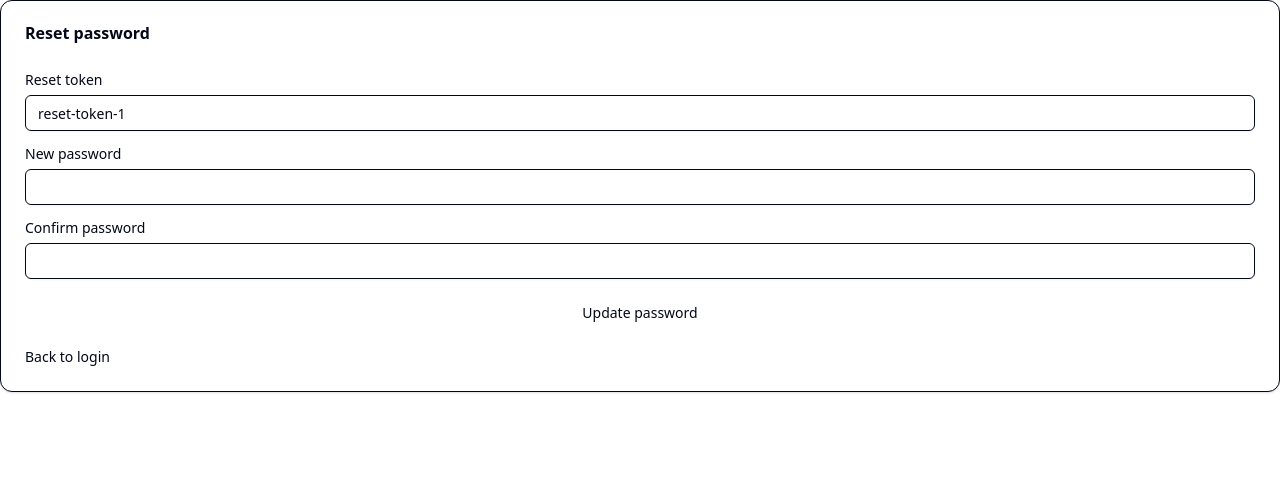
Reset flow forms › submits reset-password with token and shows success
Type "newpassword1" into the password field labelled "New password" at (640, 187), box [25,169,1255,205]
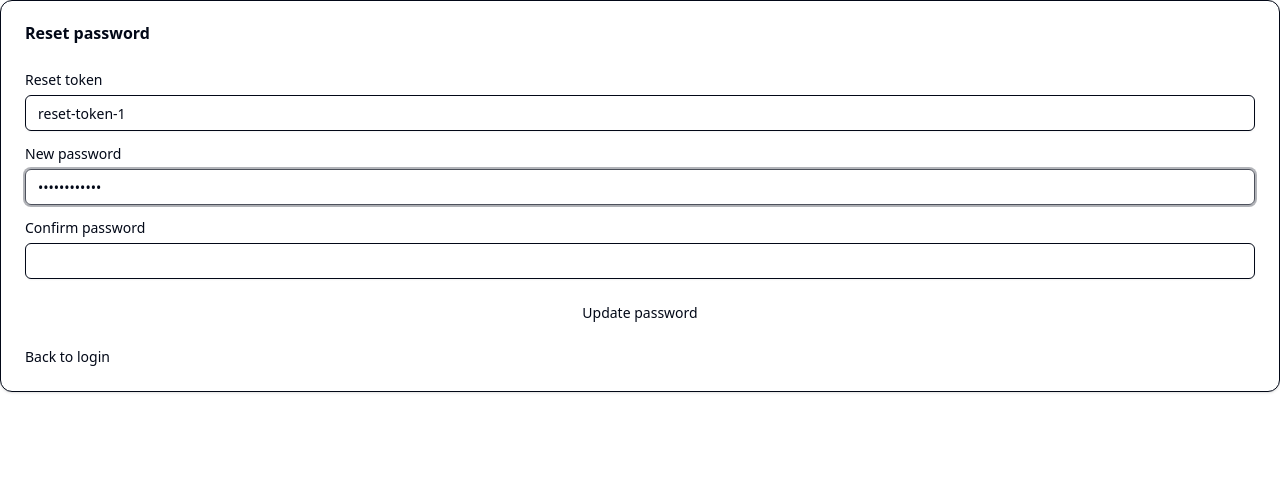
Type "newpassword1" into the password field labelled "Confirm password" at (640, 261), box [25,243,1255,279]
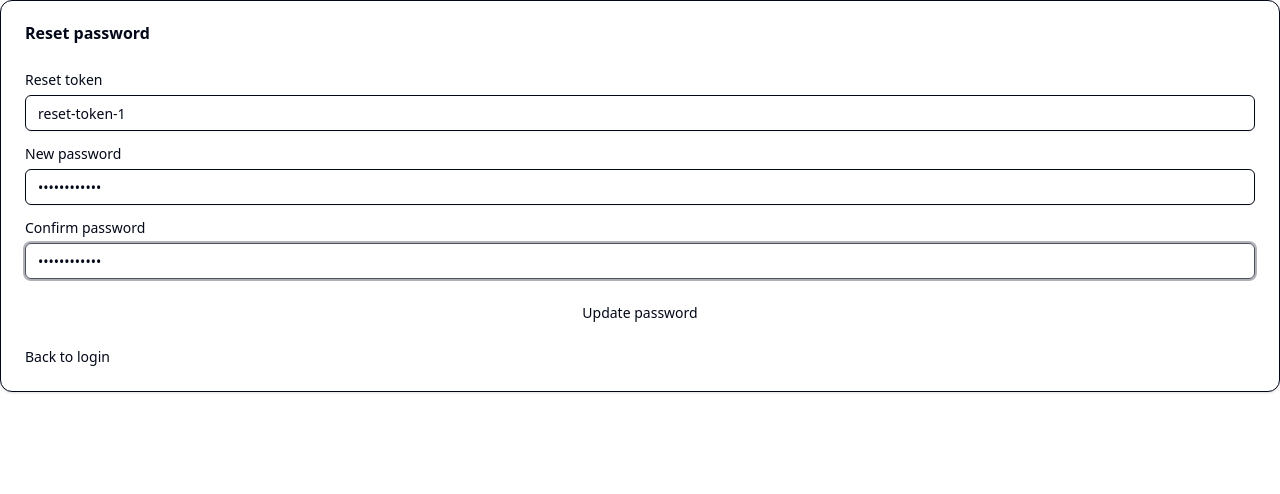
Click the button "Update password" at (640, 313), box [25,295,1255,331]
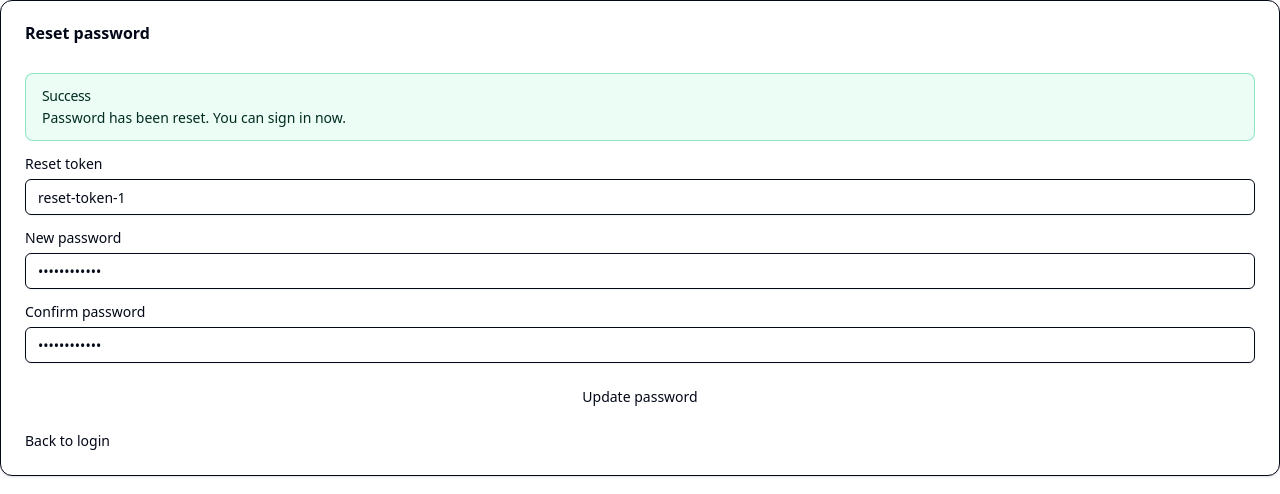
Now the text "Password has been reset. You can sign in now." is shown, box [42,108,346,127]
